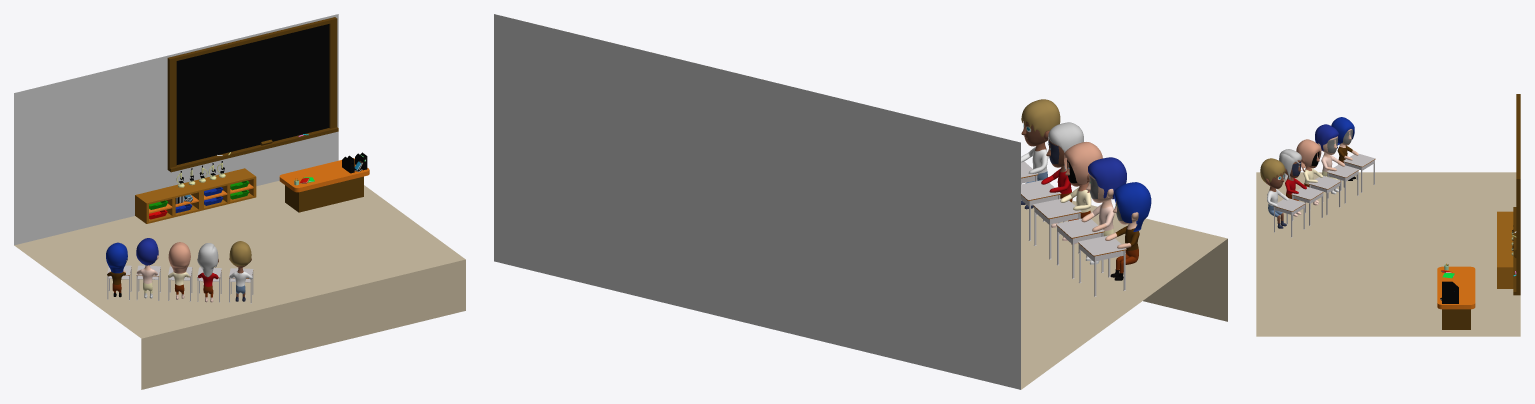
Rendered from Class Room - Grade 7 - 8.fbx.
3 renders of one model, left to right at view 1: azimuth 30°, elevation 25°; view 2: azimuth 150°, elevation 25°; view 3: azimuth 270°, elevation 25°, orthographic. The views are drawn at different scales.
Visible parts, largest first — view 1: Grade 1 ClassRoom.003; view 2: Grade 1 ClassRoom.003; view 3: Grade 1 ClassRoom.003.
Part boxes in pixels (bbox=[...]): Grade 1 ClassRoom.003: bbox=[14, 14, 465, 389]; Grade 1 ClassRoom.003: bbox=[494, 14, 1227, 389]; Grade 1 ClassRoom.003: bbox=[1256, 94, 1520, 336].
Size of the model in its own units: 762 by 457 by 518.
